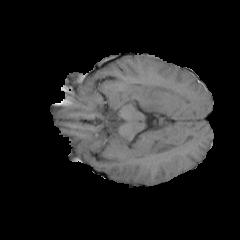glioma: (108, 80, 175, 111)
